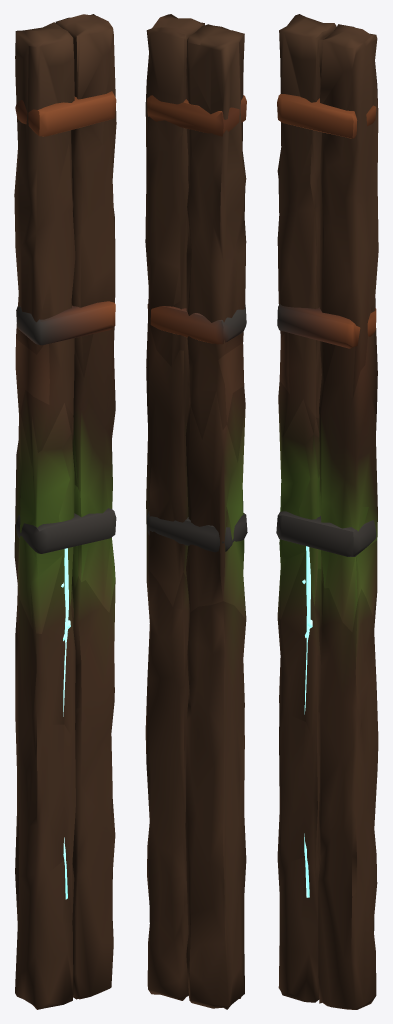
File: mire_barrel_stave_c_lod1.glb
3 views of the same model, side by side, from view 1: azimuth 30°, elevation 25°; view 2: azimuth 150°, elevation 25°; view 3: azimuth 330°, elevation 25° (orthographic).
Visible parts, largest first — view 1: mire_barrel_stave_c.001; view 2: mire_barrel_stave_c.001; view 3: mire_barrel_stave_c.001.
Part boxes in pixels (x1=…): mire_barrel_stave_c.001: x1=14, y1=14, x2=116, y2=1009; mire_barrel_stave_c.001: x1=145, y1=14, x2=247, y2=1009; mire_barrel_stave_c.001: x1=276, y1=14, x2=378, y2=1009.
Size of the model in its own units: 6.78 by 74.32 by 3.71.
